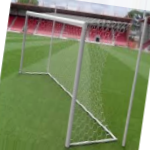goals: (18, 9, 121, 147)
